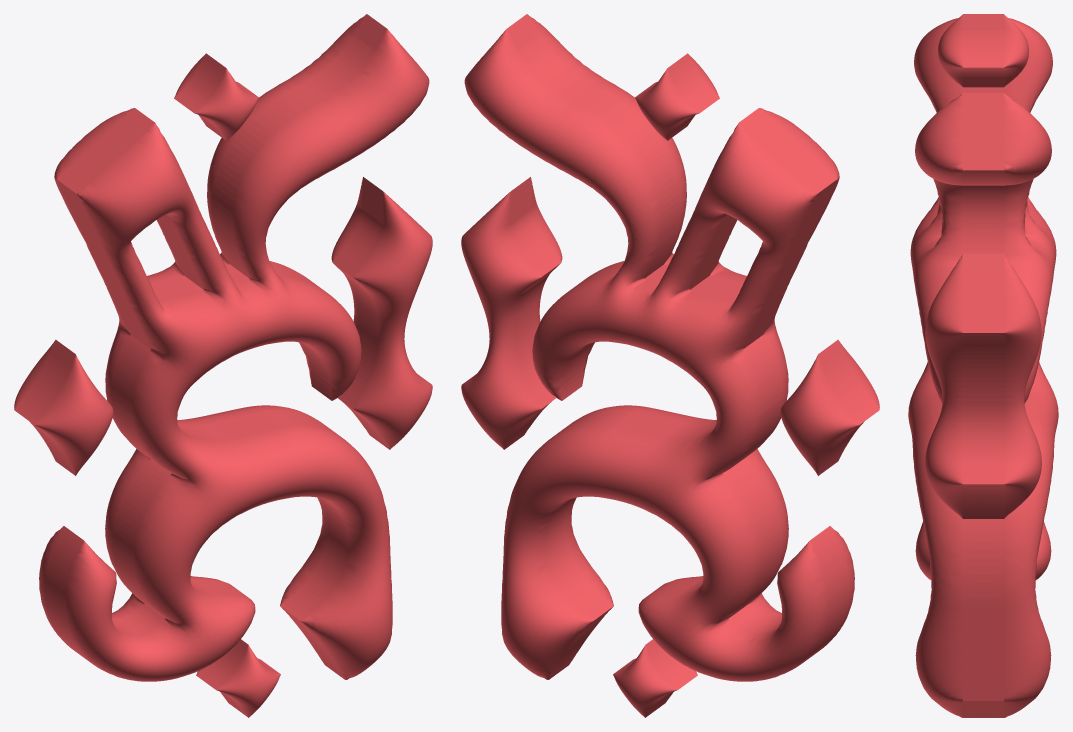
3 renders of one model, left to right at view 1: azimuth 30°, elevation 25°; view 2: azimuth 150°, elevation 25°; view 3: azimuth 270°, elevation 25°, orthographic.
Bounding box in the file's own units: 0.2265 × 0.3567 × 0.0736.
